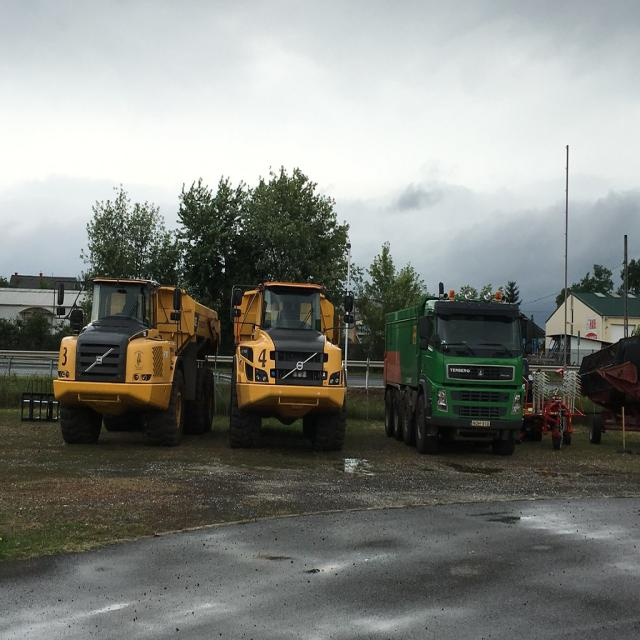dump_truck: (49, 266, 215, 452), (224, 273, 358, 459), (378, 292, 528, 458)
